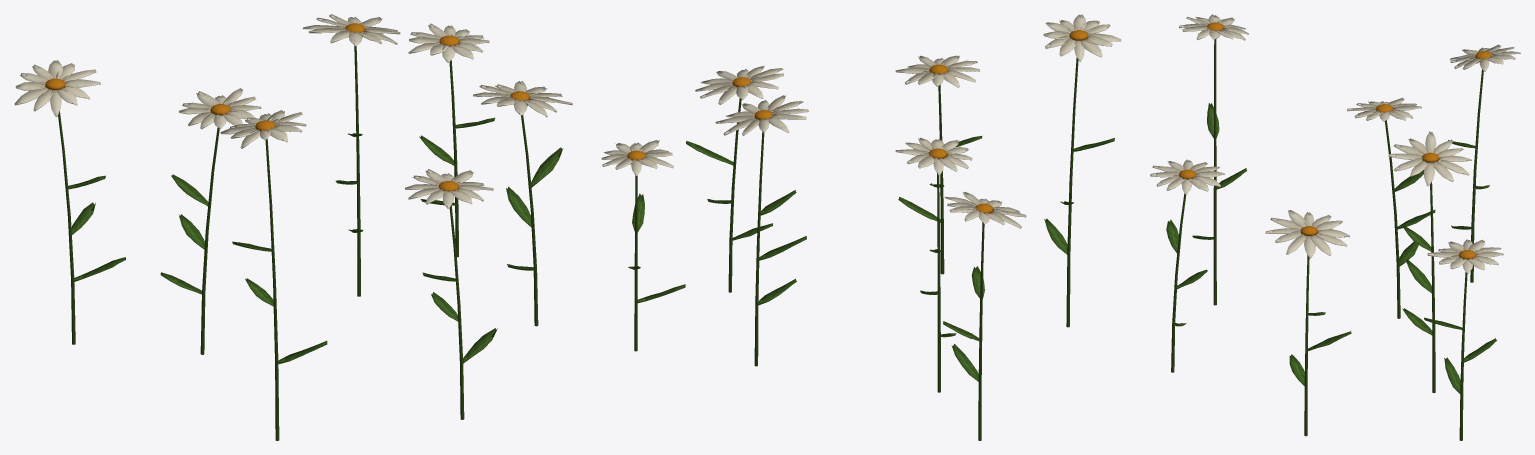
File: flower_daisy.fbx
The picture shows the model from 3 angles, left to right: view 1: azimuth 30°, elevation 25°; view 2: azimuth 150°, elevation 25°; view 3: azimuth 270°, elevation 25°; orthographic projection. The views are drawn at different scales.
Visible parts, largest first — view 1: flower_daisy; view 2: flower_daisy; view 3: flower_daisy.
Part boxes in pixels (box(x1,y1,x2,y2)): flower_daisy: box(14, 14, 572, 440); flower_daisy: box(601, 14, 1121, 440); flower_daisy: box(1150, 14, 1520, 440).
Size of what is drawn, in the model's own units: 0.6544 by 0.439 by 0.5316.
1 material, 1 textured.
